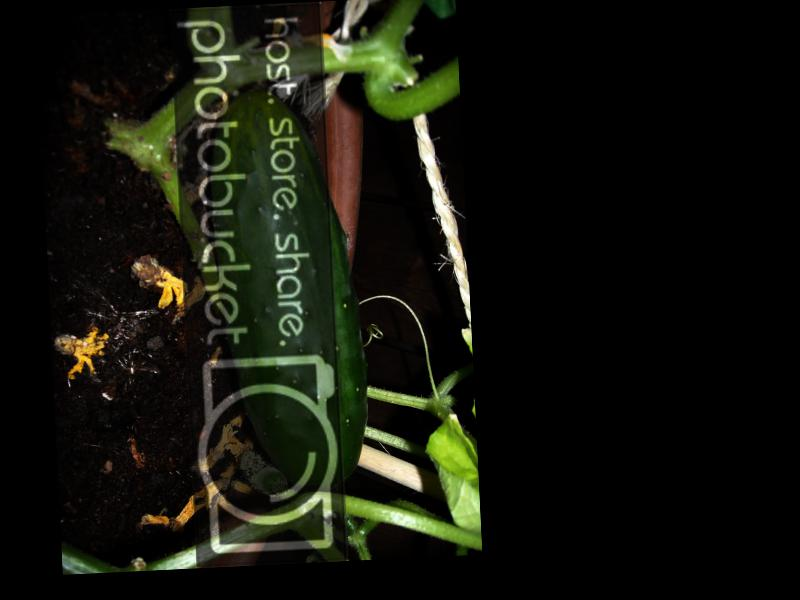Cucumber: (203, 85, 370, 492)
